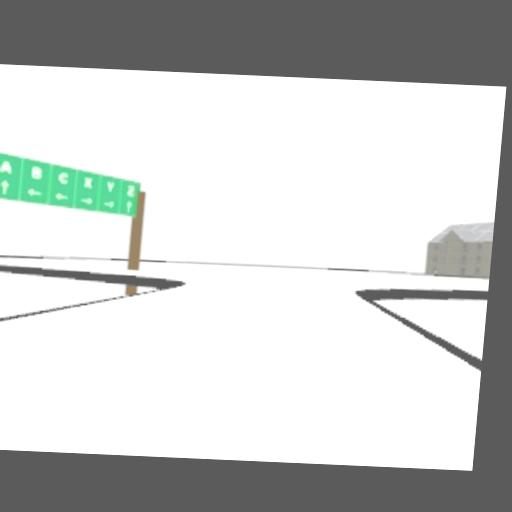A: (0, 160, 13, 174)
B: (31, 167, 43, 180)
C: (58, 171, 70, 184)
Left: (26, 187, 43, 197)
Right: (79, 198, 94, 205), (103, 201, 116, 208)
Straight: (0, 179, 10, 195), (125, 200, 133, 213)
X: (82, 176, 94, 189)
Y: (105, 180, 115, 193)
Z: (127, 185, 137, 198)
